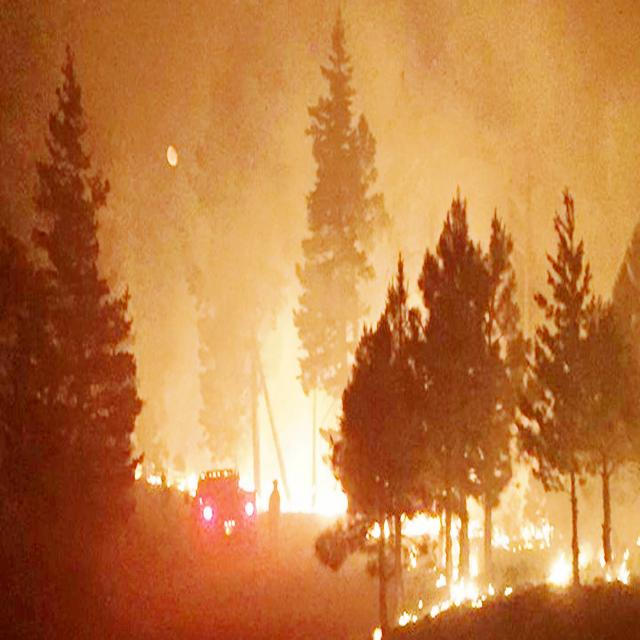api: (231, 459, 362, 518), (428, 552, 487, 627), (372, 513, 443, 547), (543, 549, 576, 597), (523, 516, 558, 559), (182, 467, 202, 496), (494, 524, 514, 551), (399, 606, 420, 629), (469, 516, 484, 539), (451, 516, 462, 544), (374, 627, 383, 640)
